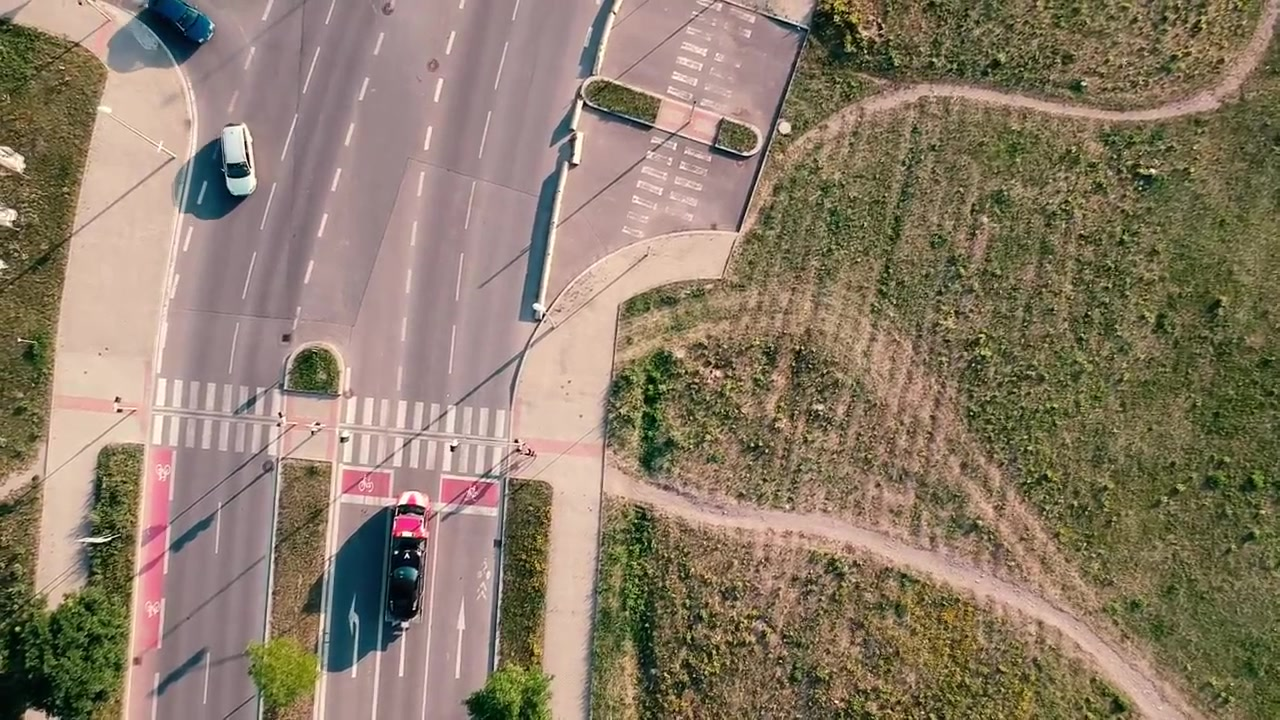car: (378, 487, 433, 633), (215, 118, 260, 199), (141, 1, 217, 47)
